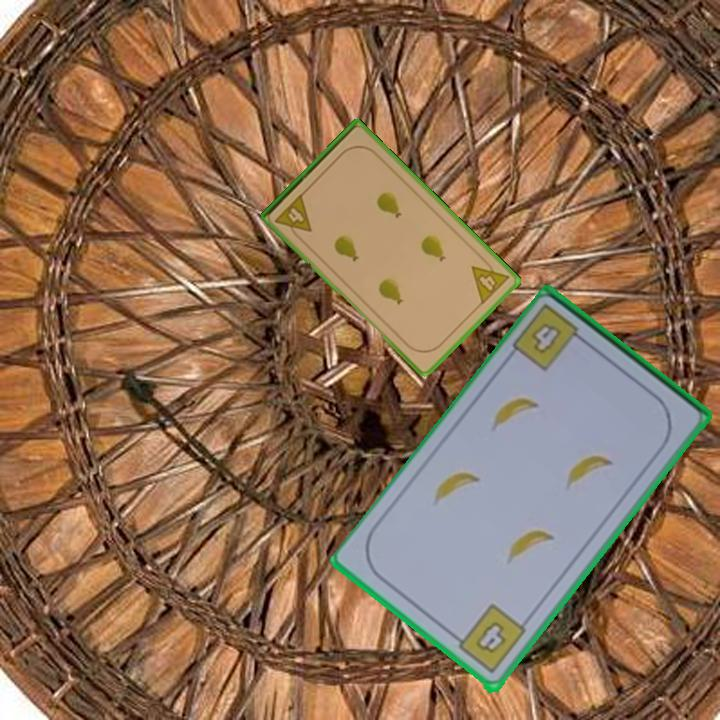4b: (448, 601, 529, 677), (527, 319, 561, 358)
4p: (468, 253, 512, 308), (271, 190, 315, 243)
